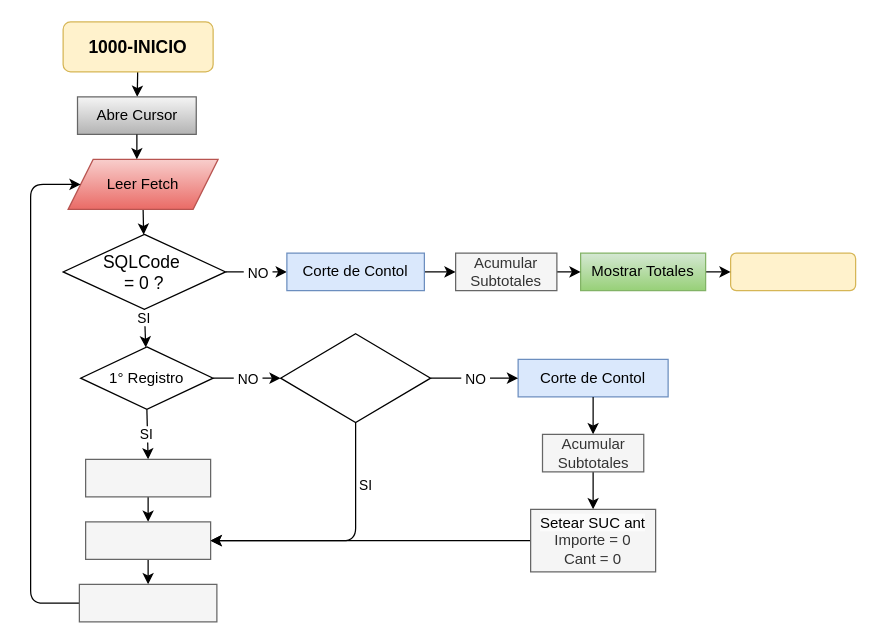
Some shapes in this 878 by 644 pixel diagram are drawn without their labels. Each missing label, with the centre of its shape:
9999-FINAL: pixel 792 271
Acumular Importe: pixel 147 602
add 1 a CANT: pixel 147 540
Setear SUC ant: pixel 147 477
SUC act = SUC ant: pixel 355 377
